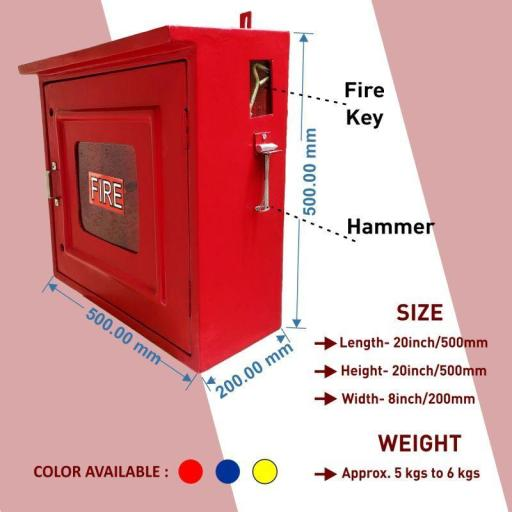fire_hose: (12, 22, 296, 361)
